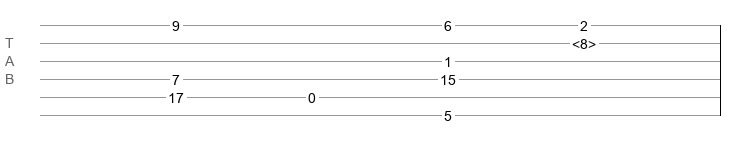0: (308, 90, 316, 100)
1: (444, 54, 452, 64)
15: (440, 72, 456, 82)
17: (168, 90, 184, 100)
2: (580, 18, 588, 28)
5: (444, 108, 452, 118)
6: (444, 18, 452, 28)
7: (172, 72, 180, 82)
9: (172, 18, 180, 28)
harmonic: (572, 36, 596, 46)
